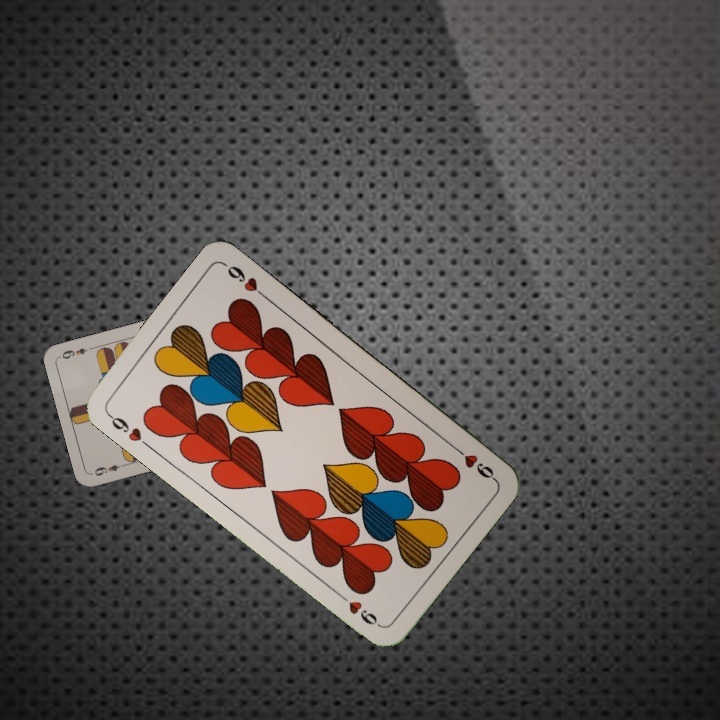E9: (90, 460, 129, 478)
H9: (447, 441, 498, 483), (103, 409, 153, 451)
